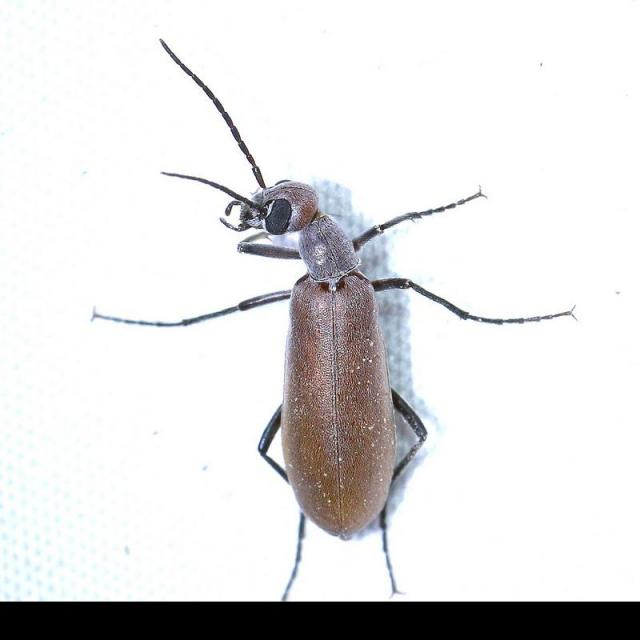BlisterBeetle-Adult-: (116, 35, 557, 532)
